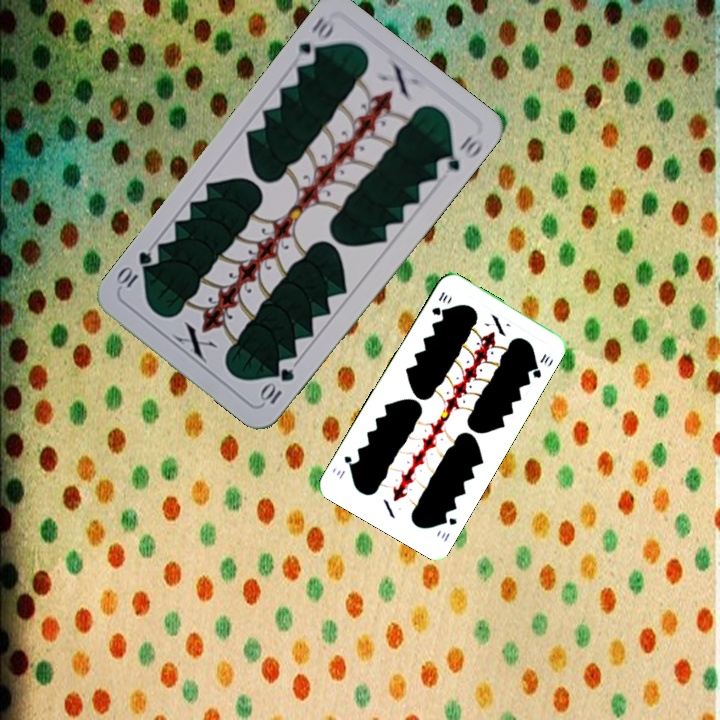G10: (290, 12, 337, 70), (256, 364, 297, 407), (436, 512, 460, 545), (428, 287, 451, 318)
